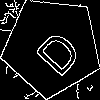D: (26, 21, 84, 79)
